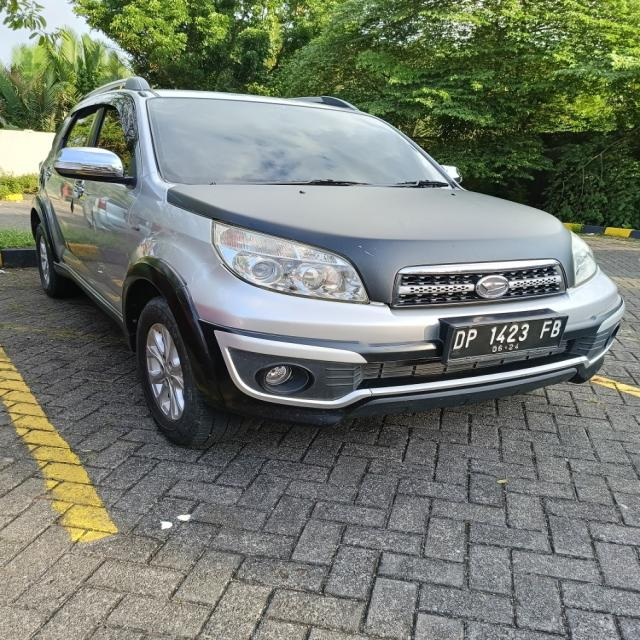plates: (442, 312, 570, 362)
